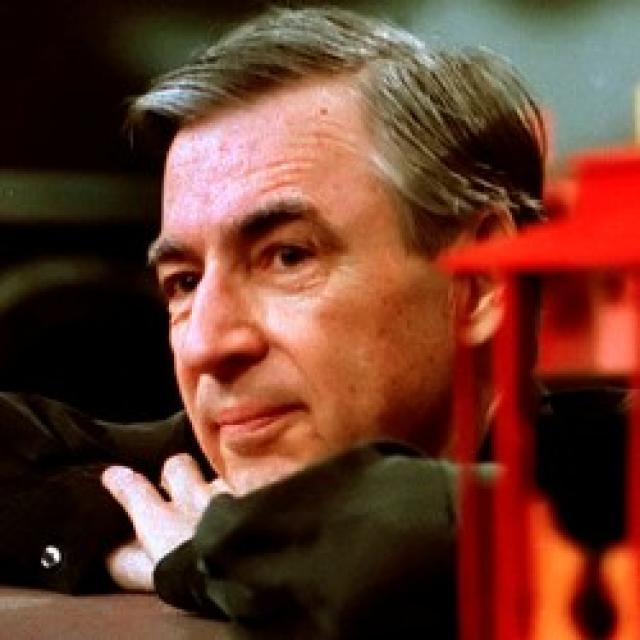human: (63, 14, 626, 640)
